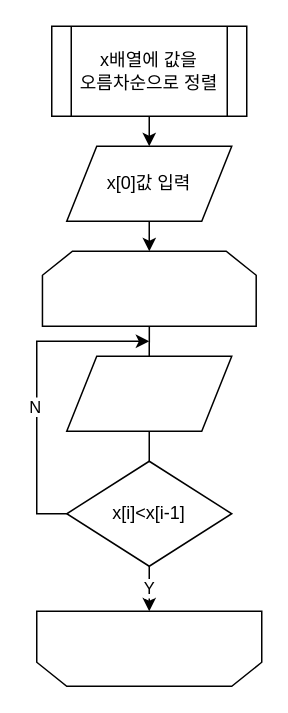
Some shapes in this 288 by 713 pixel diagram are drawn without their labels. Each missing label, with the centre of its shape:
int i: 1, 1, nx-1: (x=148, y=288)
x[i]값 입력: (x=148, y=393)
